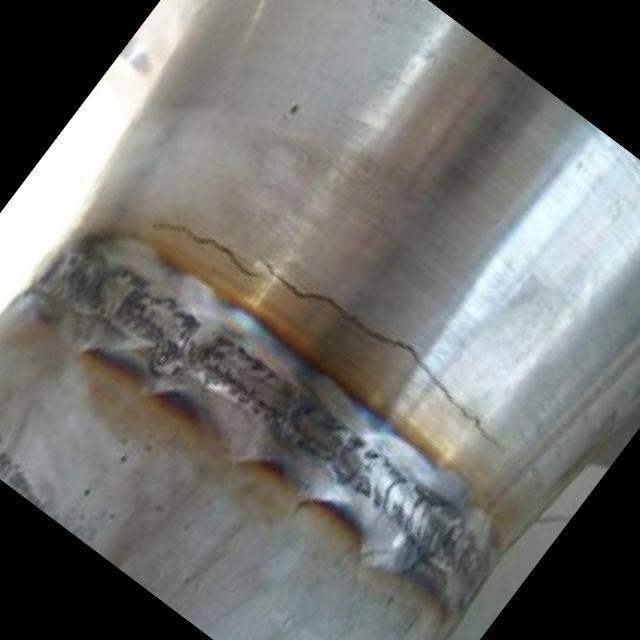defect: (135, 214, 508, 463)
